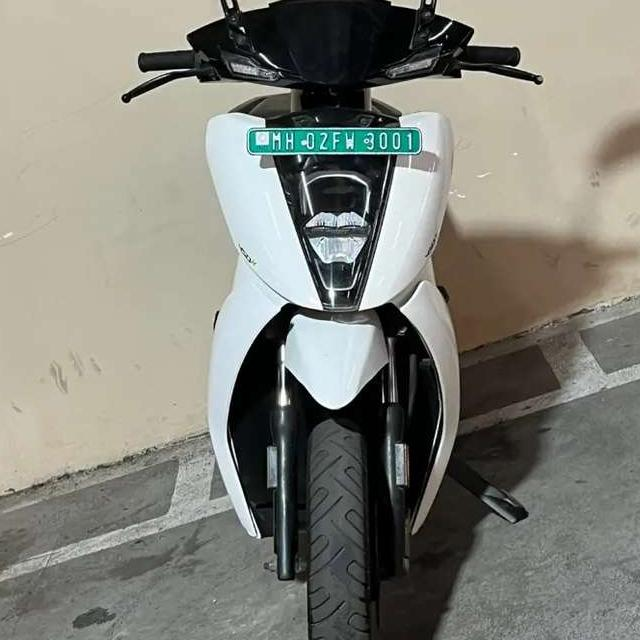Indian_Number_Plate: (251, 129, 421, 155)
